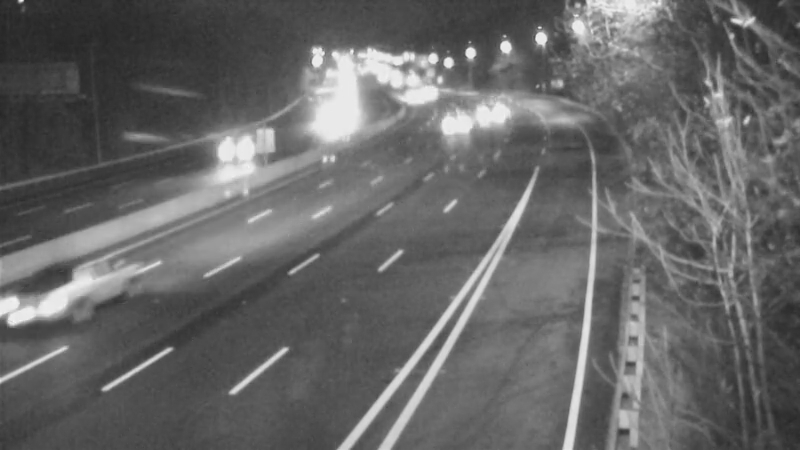vehicle: (1, 251, 100, 361), (198, 112, 278, 192), (403, 66, 453, 116), (390, 77, 440, 127), (460, 85, 510, 135), (427, 94, 477, 144), (305, 99, 355, 149)
